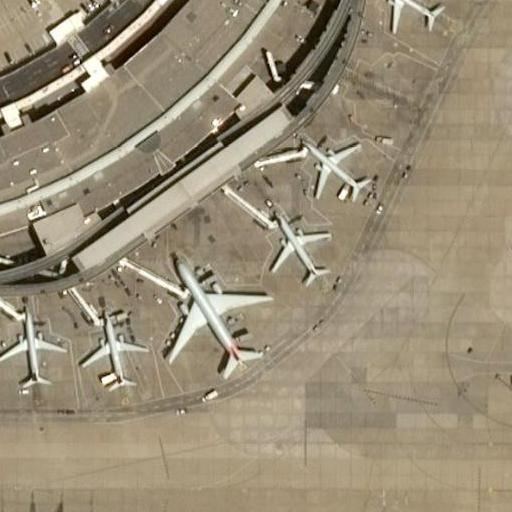Aircraft: (159, 251, 269, 376), (257, 205, 333, 284), (300, 128, 372, 204), (0, 307, 62, 394), (80, 309, 145, 389), (373, 0, 443, 33)
